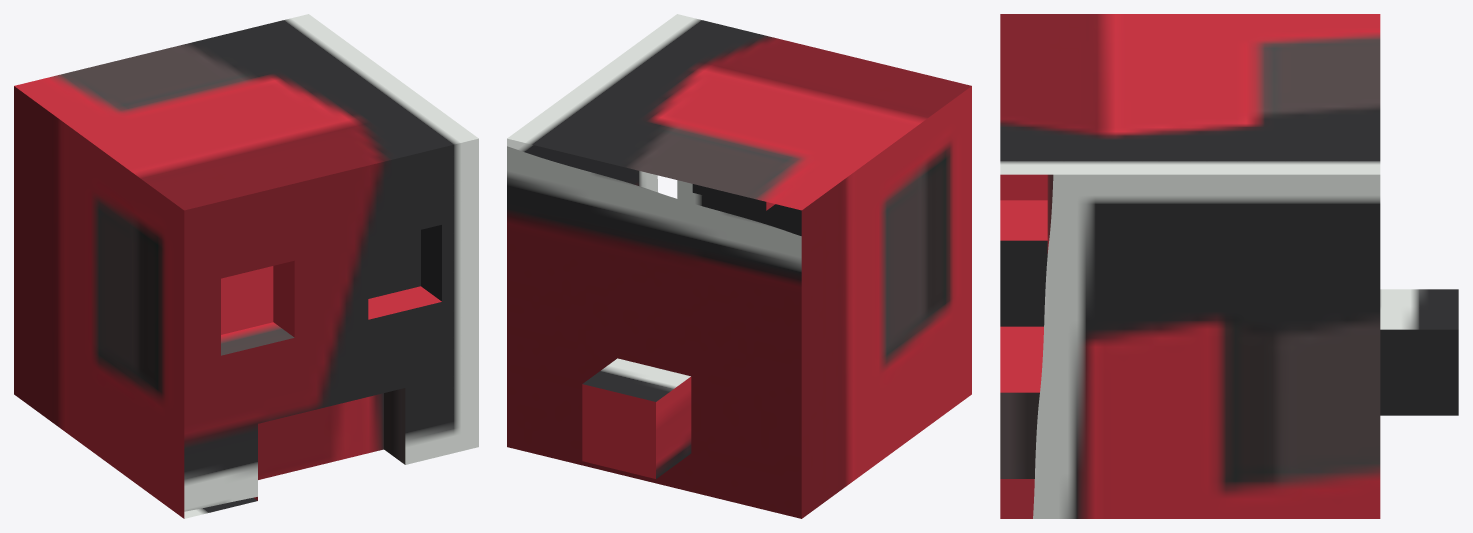
The model's file is red.obj.
3 renders of one model, left to right at view 1: azimuth 30°, elevation 25°; view 2: azimuth 150°, elevation 25°; view 3: azimuth 270°, elevation 25°, orthographic. The views are drawn at different scales.
Bounding box in the file's own units: 249 × 249 × 300.
